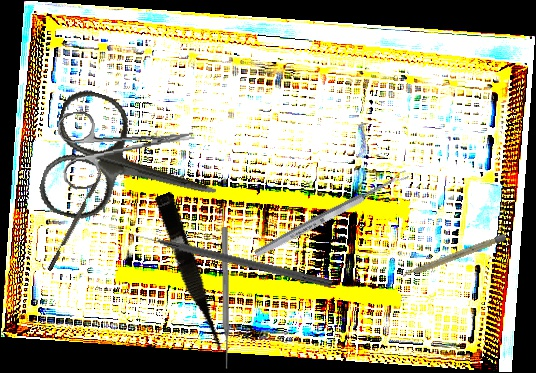Chopper: (42, 167, 106, 272)
Hook Surgical: (126, 227, 334, 290)
Iris Scissors: (33, 84, 234, 255), (56, 100, 199, 191)
Micro Scissor: (150, 191, 230, 357)
Pusher: (219, 226, 232, 371)
Scalpel Handle: (401, 233, 507, 280)
Surgical Spoon: (252, 168, 411, 260)
